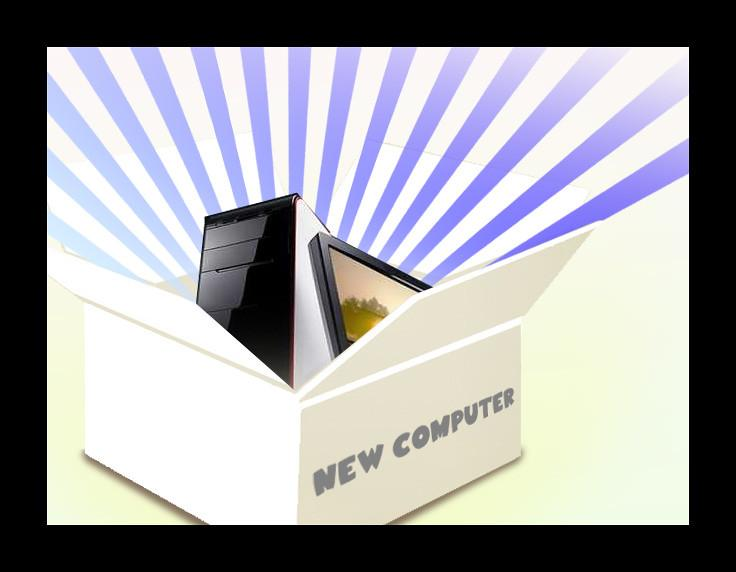computer: (195, 192, 335, 392), (308, 232, 434, 361)
